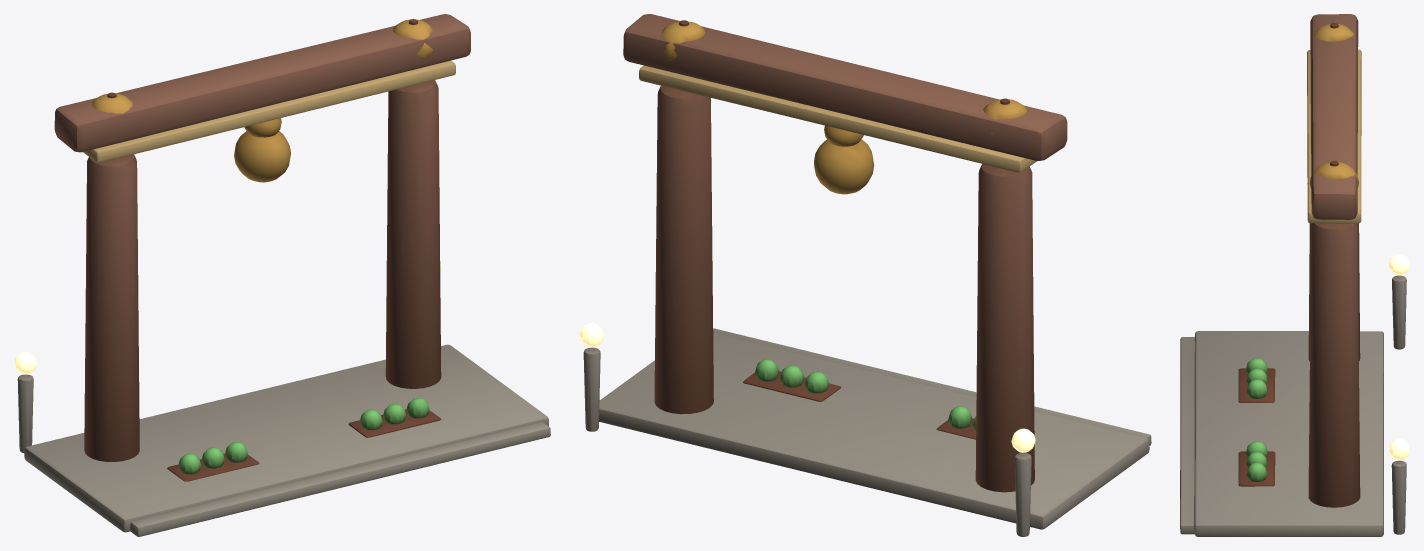
The picture shows the model from 3 angles, left to right: view 1: azimuth 30°, elevation 25°; view 2: azimuth 150°, elevation 25°; view 3: azimuth 270°, elevation 25°; orthographic projection. The views are drawn at different scales.
Visible parts, largest first — view 1: gate_8664f219; view 2: gate_8664f219; view 3: gate_8664f219.
Boxes of the visible parts, x1,y1,x2,y2 form: gate_8664f219: [14, 14, 550, 536]; gate_8664f219: [579, 14, 1151, 536]; gate_8664f219: [1180, 14, 1409, 536].
Size of the model in its own units: 5.12 by 4.25 by 2.55.
